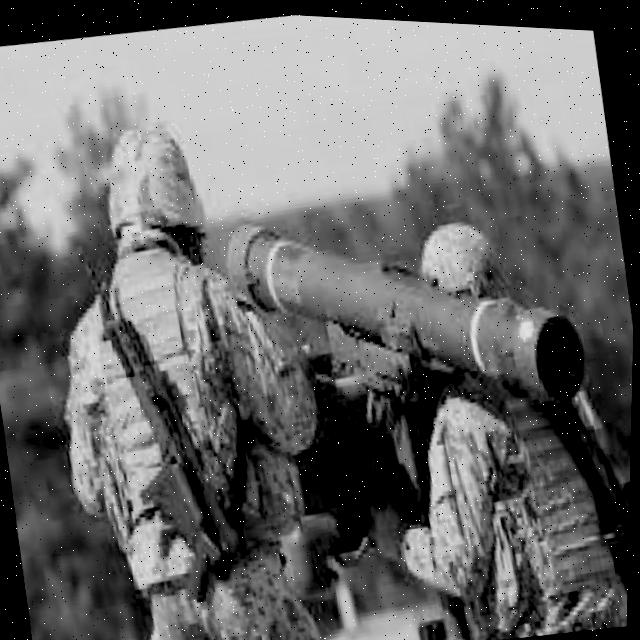rocket: (214, 145, 605, 468)
